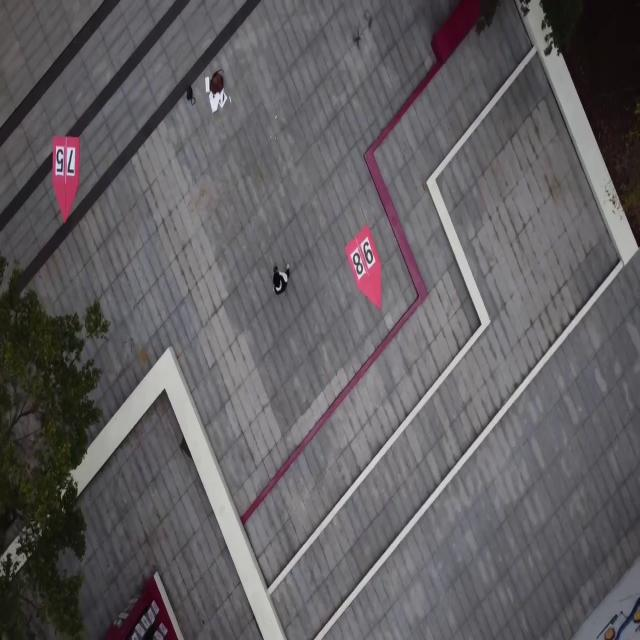-sign-: (344, 224, 382, 310), (51, 134, 80, 223)
